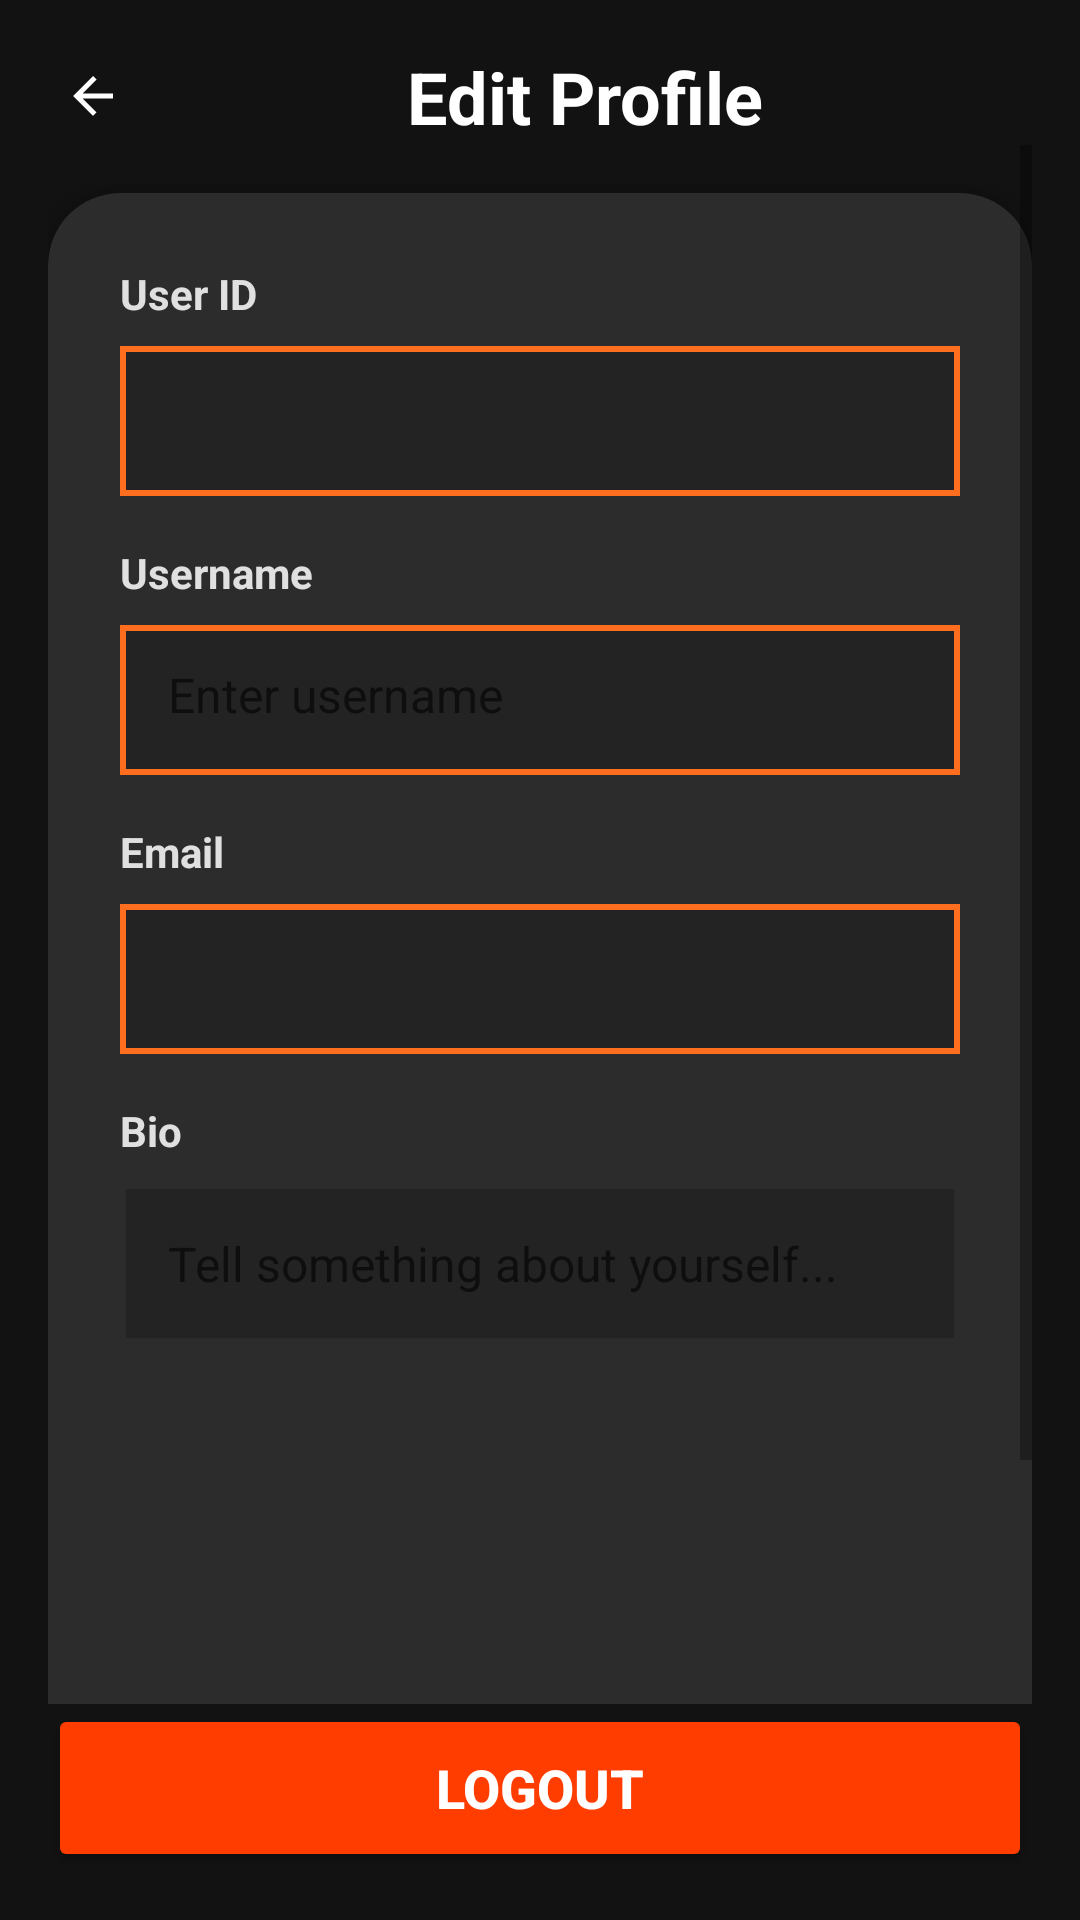

Point at icon controls on the screen. Image size 1080px×1920px, points as point (x, y).
arrow back: point (93, 96)
